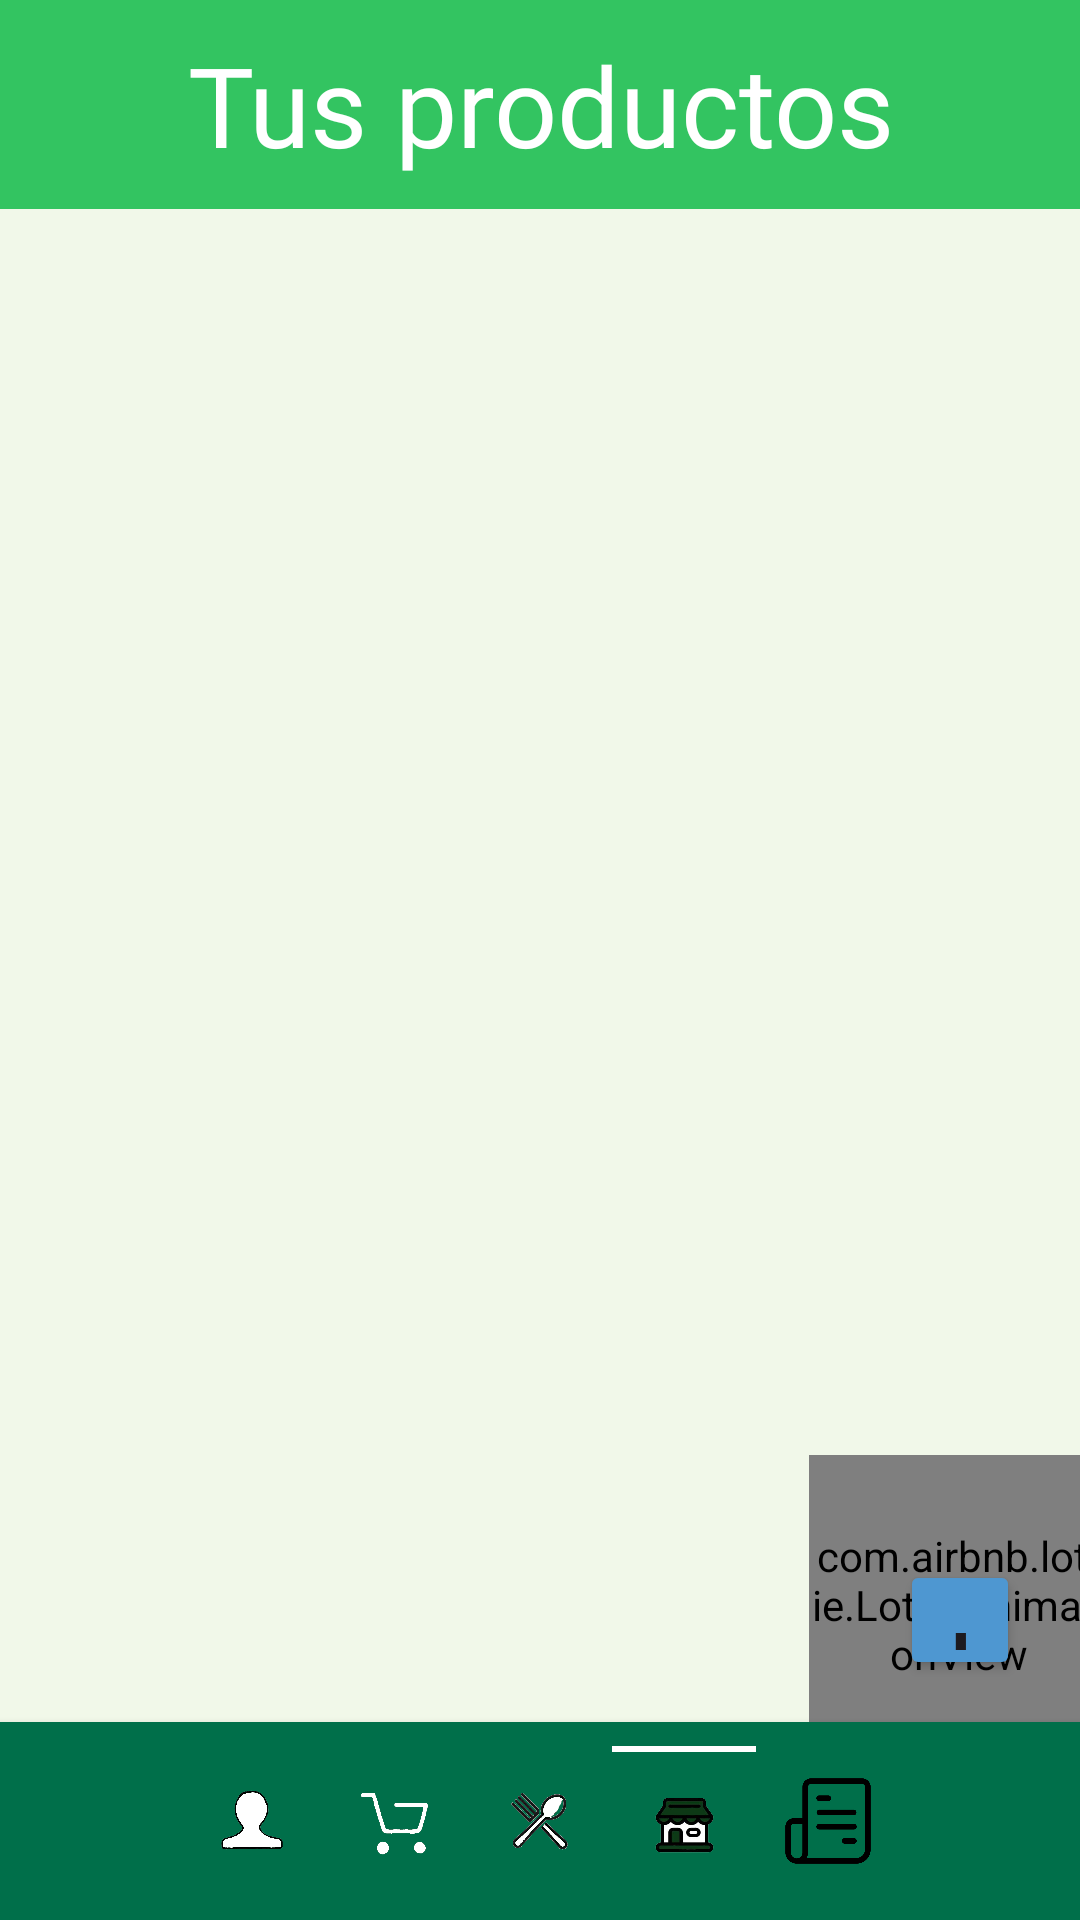

Named icons in this screenshot (1080w x 1920h) and their centers, (x,y):
carrito: (394,1824)
Ordenes: (828,1821)
Perfil: (252,1820)
restaurantes: (539,1821)
Supermercado: (684,1825)
